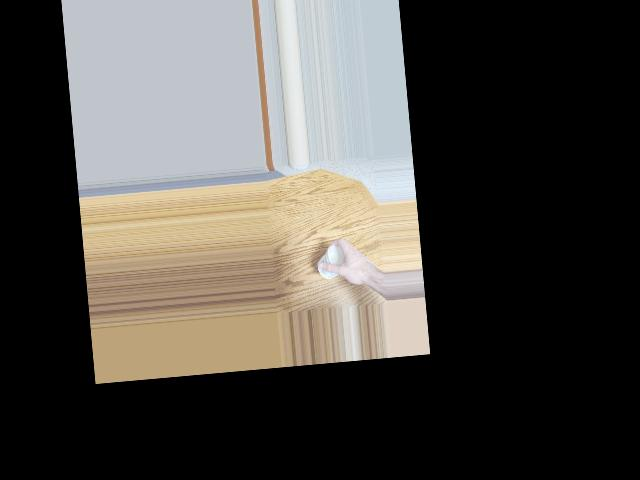cotage: (314, 237, 347, 276)
